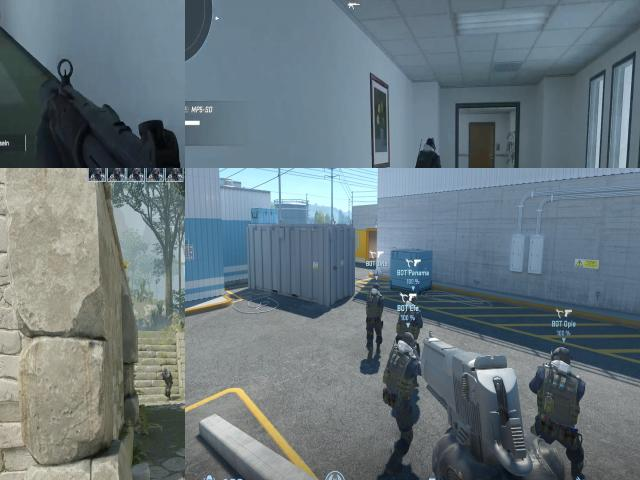CT: (543, 343, 579, 474), (386, 330, 420, 463), (364, 280, 385, 361), (411, 128, 446, 168), (399, 294, 420, 330), (160, 364, 175, 401)
CT-Head: (547, 347, 572, 369), (420, 133, 440, 157), (398, 333, 414, 353), (162, 365, 171, 377), (408, 295, 418, 305), (372, 283, 381, 294)
